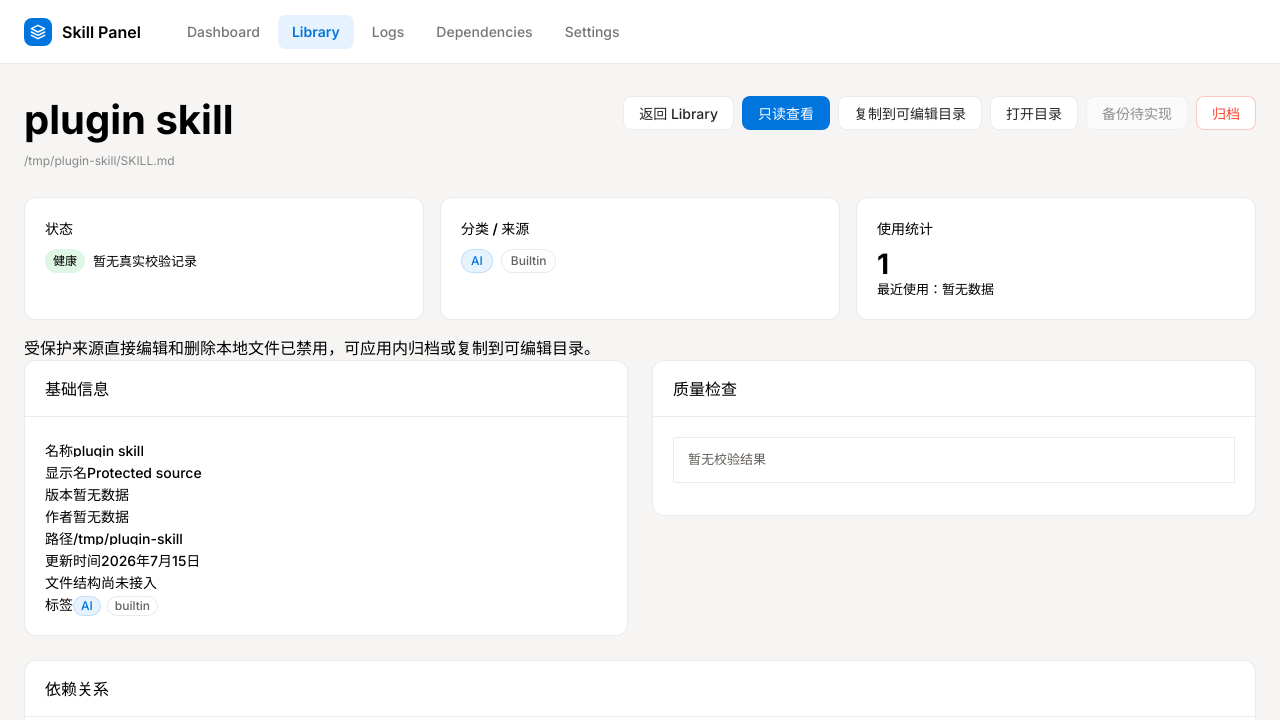
it: AppShell Tauri event fallback › confirms the editable copy name and reports the new user path
Click the button "复制到可编辑目录".
click(910, 113)  # box 838,96 -> 982,130
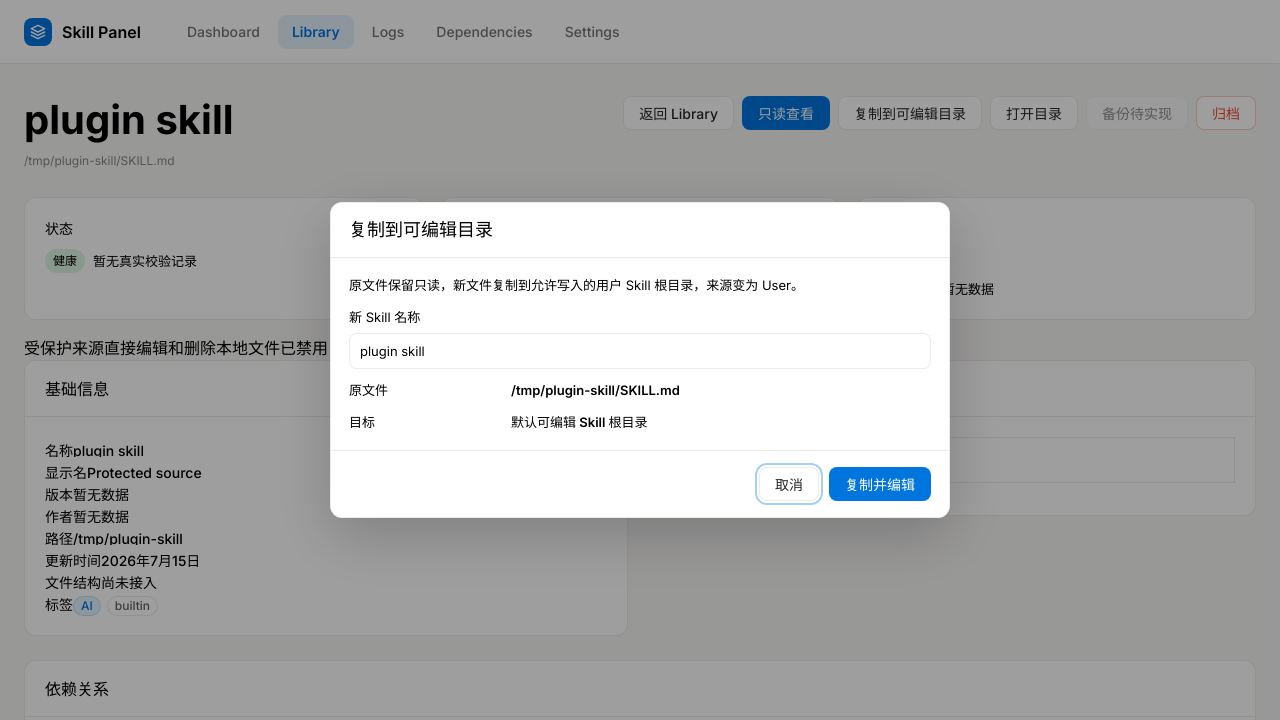
Expected: the dialog "复制到可编辑目录" is shown, 330,202 -> 950,518
Replace the text in the field labelled "新 Skill 名称" with "plugin skill editable" at (640, 351), box 349,333 -> 931,369
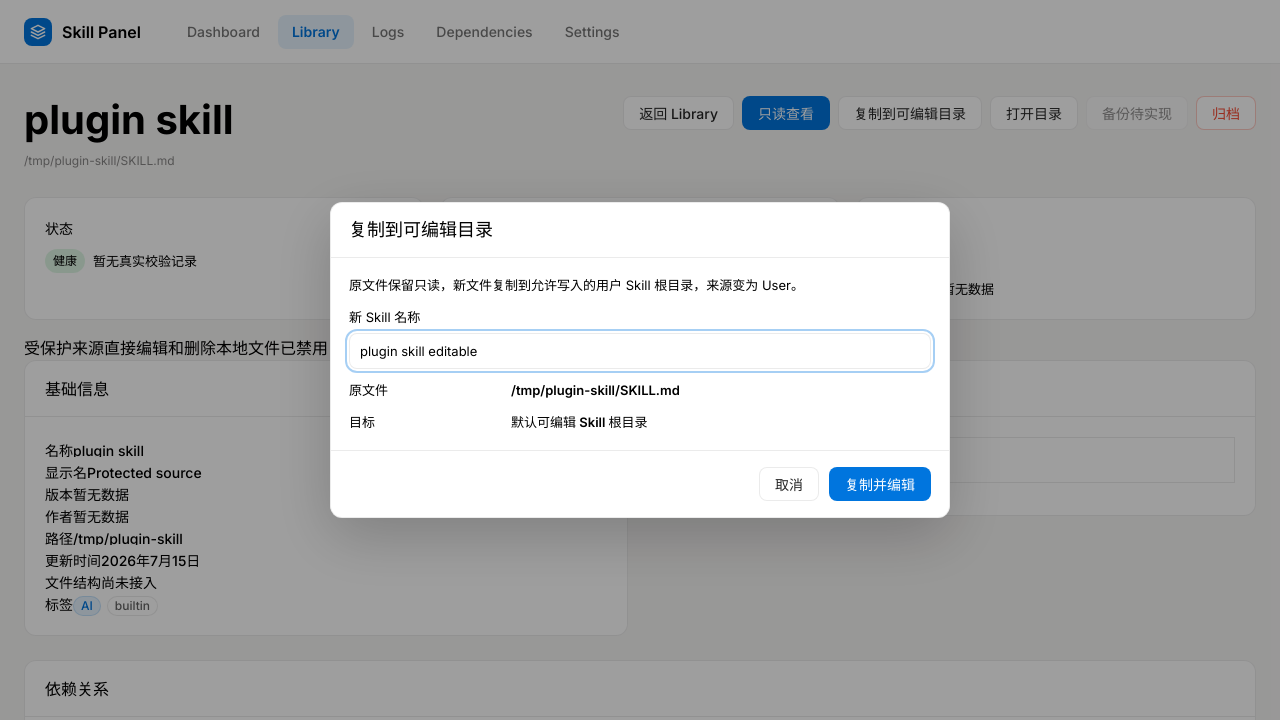
Click the button "复制并编辑".
click(880, 484)  # box 829,467 -> 931,501
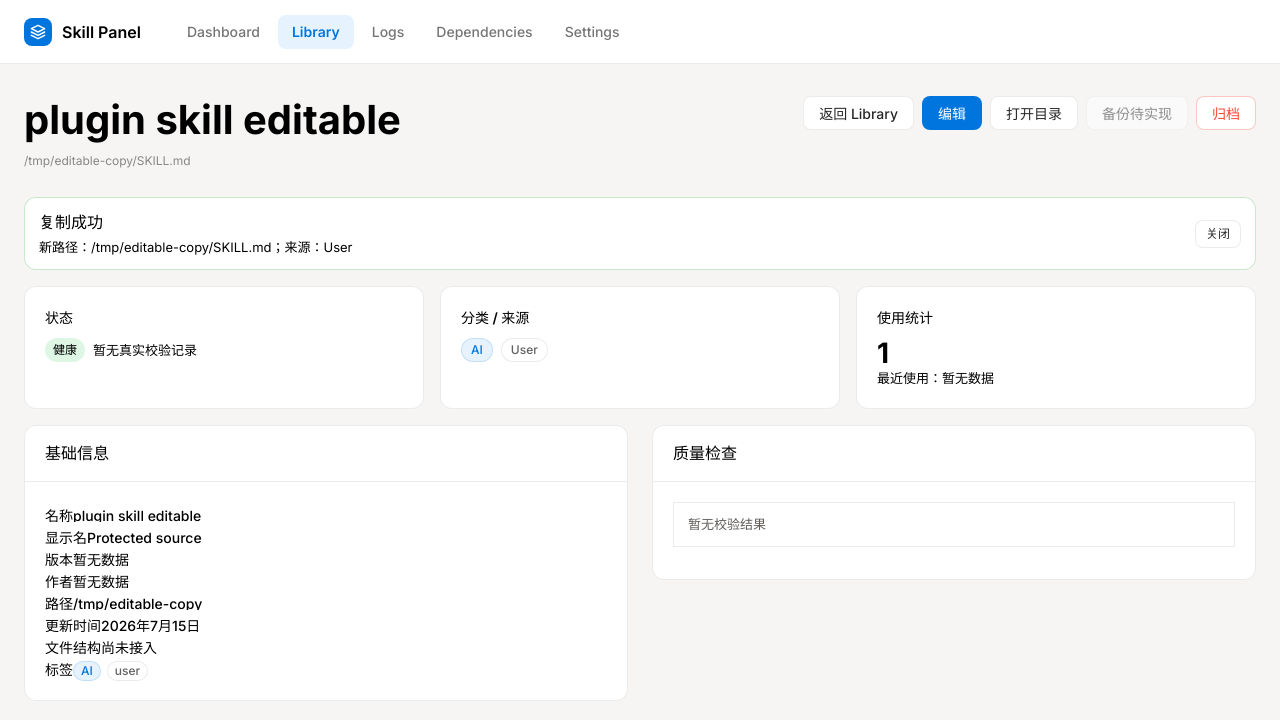
Expected: the text "新路径：/tmp/editable-copy/SKILL.md；来源：User" is shown, 39,238 -> 352,257
